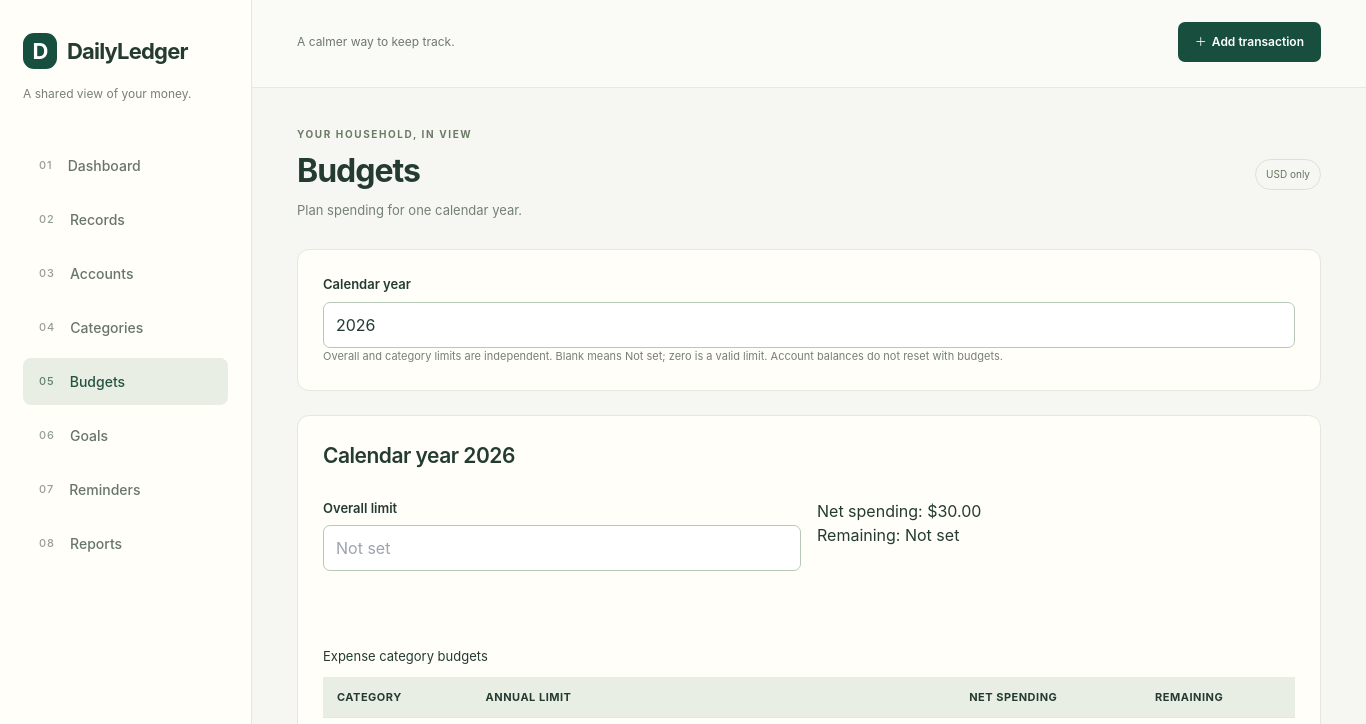
Test case: AC8 annual budgets screen › zero is saved explicitly and blank category limits stay unset
Type "0.00" into the field labelled "Overall limit" at (562, 548), box 323,525 -> 801,571
(page scrolled)
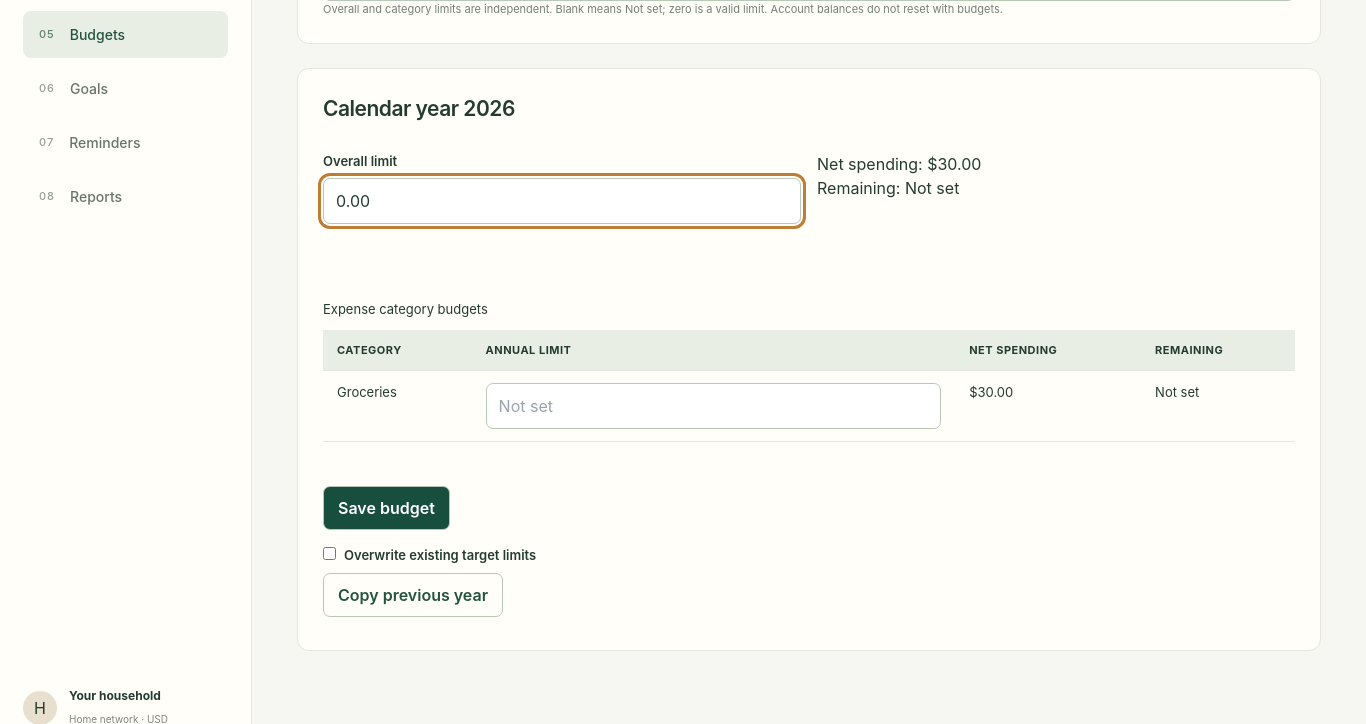
Click the button "Save budget" at (386, 508), box 323,486 -> 450,530
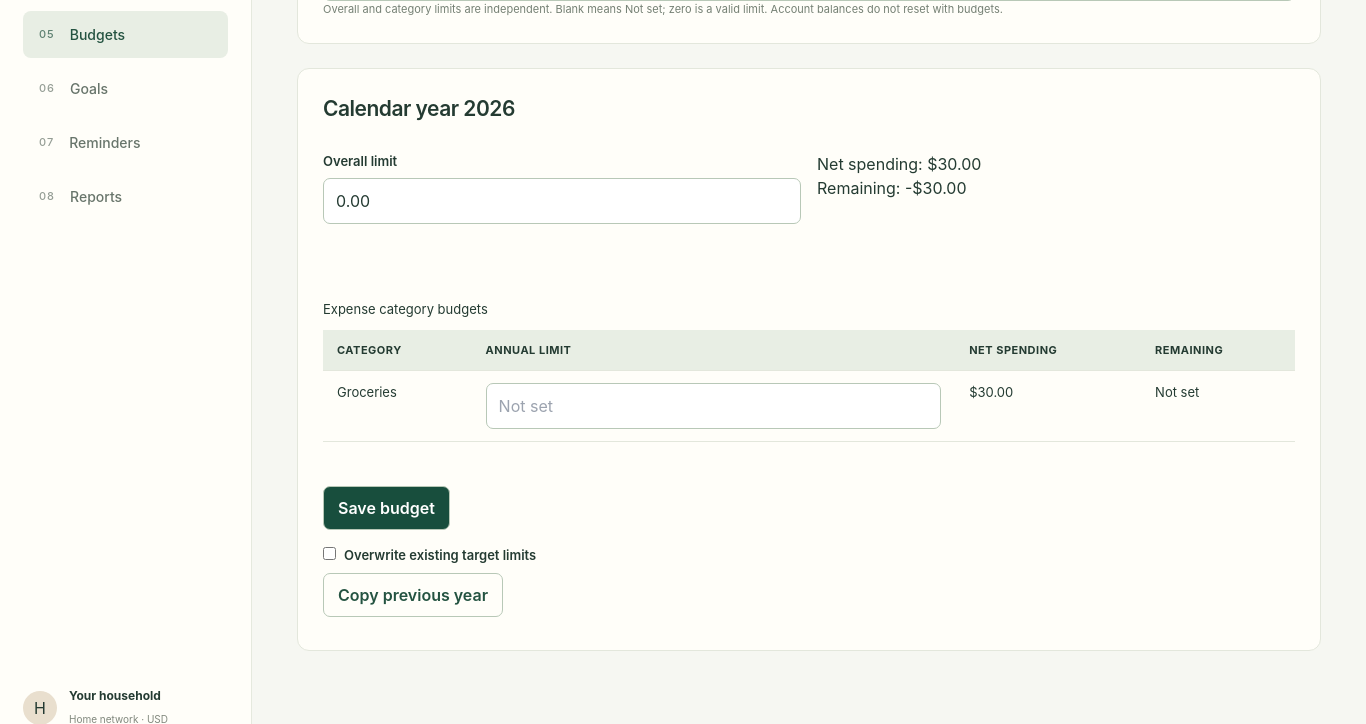
Expected: the field named "Groceries limit" is empty, 486,383 -> 941,429
Result: the text "Remaining: -$30.00" is shown at 817,178 -> 967,198
